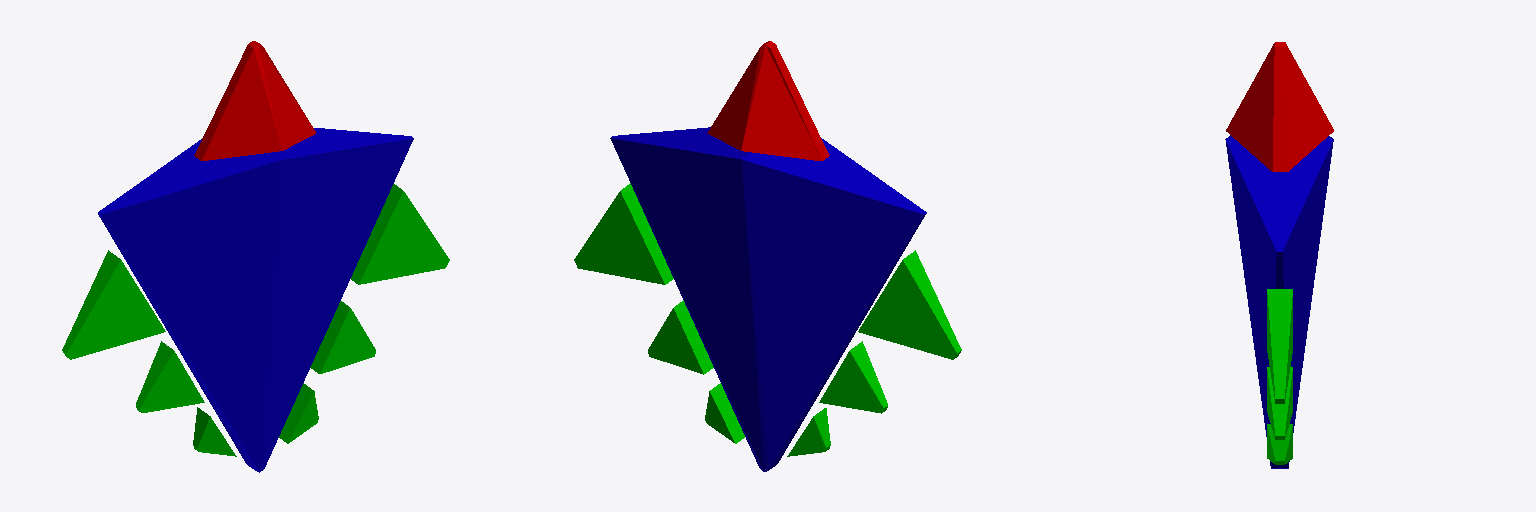
Rendered from zlo.obj.
3 views of the same model, side by side, from view 1: azimuth 30°, elevation 25°; view 2: azimuth 150°, elevation 25°; view 3: azimuth 270°, elevation 25° (orthographic).
Visible parts, largest first — view 1: Cube.025_Cube.037, Cube.028_Cube.044, Cube.026_Cube.042; view 2: Cube.025_Cube.037, Cube.028_Cube.044, Cube.026_Cube.042; view 3: Cube.025_Cube.037, Cube.026_Cube.042, Cube.028_Cube.044.
Boxes of the visible parts, box(x1,y1,x2,y2) form: Cube.025_Cube.037: box(98, 128, 413, 472); Cube.028_Cube.044: box(62, 184, 449, 456); Cube.026_Cube.042: box(194, 41, 315, 160); Cube.025_Cube.037: box(610, 127, 926, 471); Cube.028_Cube.044: box(574, 183, 961, 456); Cube.026_Cube.042: box(707, 41, 829, 160); Cube.025_Cube.037: box(1225, 135, 1333, 468); Cube.026_Cube.042: box(1226, 42, 1333, 171); Cube.028_Cube.044: box(1267, 289, 1292, 464).
Size of the model in its own units: 1.6 by 1.7 by 0.395.